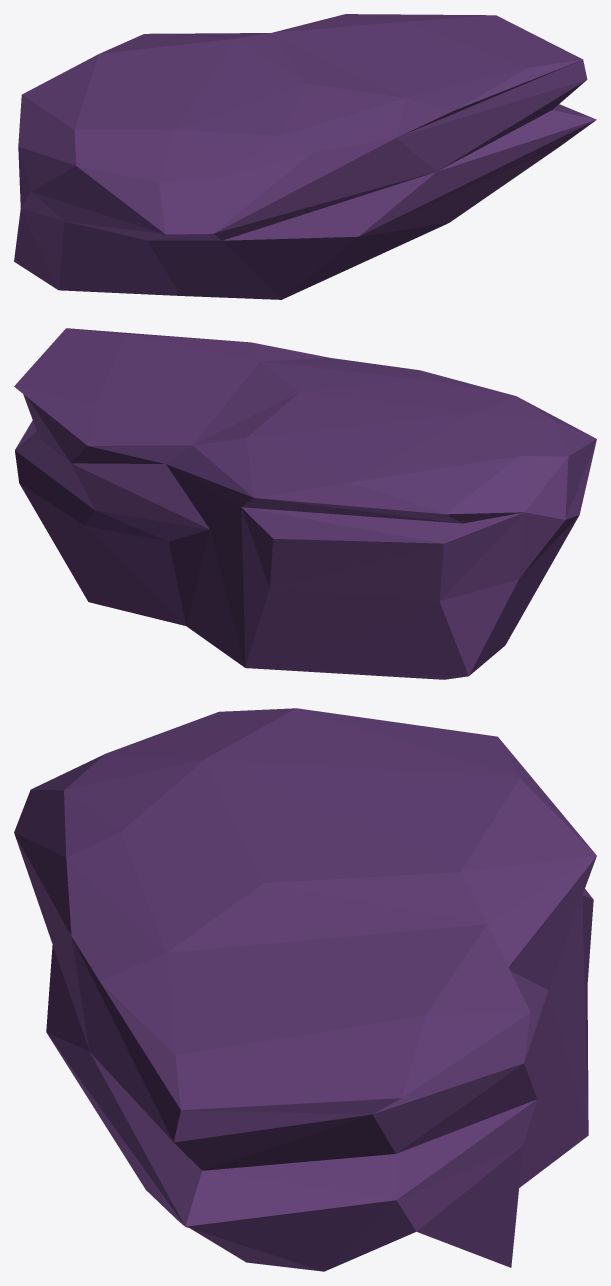
File: Rock_10.fbx
The picture shows the model from 3 angles, top to bottom: view 1: azimuth 30°, elevation 25°; view 2: azimuth 150°, elevation 25°; view 3: azimuth 270°, elevation 25°; orthographic projection. The views are drawn at different scales.
Parts seen in each view (by area): view 1: rock_model.025; view 2: rock_model.025; view 3: rock_model.025.
Part boxes in pixels (x1,y1,x2,y2): rock_model.025: (14, 14, 596, 299); rock_model.025: (14, 328, 596, 679); rock_model.025: (14, 708, 596, 1271).
Size of the model in its own units: 376 by 124 by 222.
